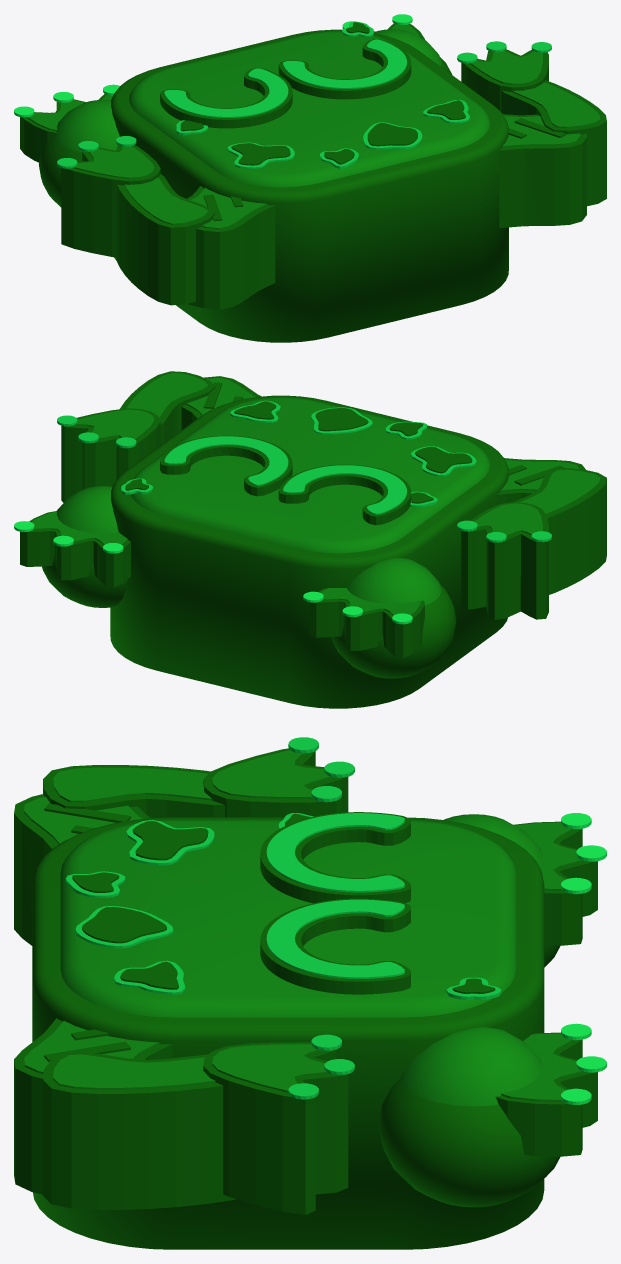
The model's file is body_sapo.fbx.
3 renders of one model, top to bottom at view 1: azimuth 30°, elevation 25°; view 2: azimuth 150°, elevation 25°; view 3: azimuth 270°, elevation 25°, orthographic. The views are drawn at different scales.
Visible parts, largest first — view 1: body_sapo_corpo, body_sapo_mao_esq, body_sapo_mao; view 2: body_sapo_corpo, body_sapo_mao_esq, body_sapo_mao; view 3: body_sapo_corpo, body_sapo_mao, body_sapo_mao_esq.
Part boxes in pixels (box(x1,y1,x2,y2)): body_sapo_corpo: box(57, 21, 606, 342); body_sapo_mao_esq: box(14, 84, 119, 207); body_sapo_mao: box(342, 14, 452, 74); body_sapo_corpo: box(57, 371, 606, 708); body_sapo_mao_esq: box(303, 557, 456, 678); body_sapo_mao: box(14, 486, 130, 607); body_sapo_corpo: box(14, 737, 544, 1249); body_sapo_mao: box(379, 1023, 606, 1207); body_sapo_mao_esq: box(444, 813, 606, 967).
Size of the model in its own units: 6.64 by 2.13 by 4.63.
1 material, 1 textured.
